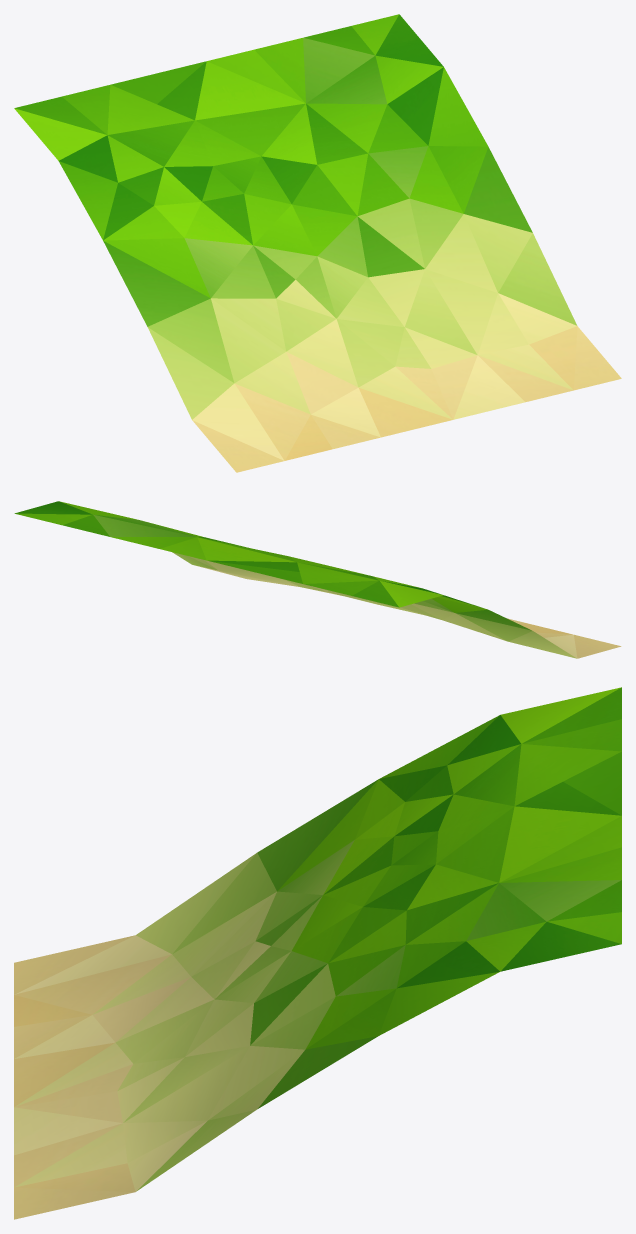
Rendered from GL-Terrain-part-06.fbx.
3 renders of one model, top to bottom at view 1: azimuth 30°, elevation 25°; view 2: azimuth 150°, elevation 25°; view 3: azimuth 270°, elevation 25°, orthographic. The views are drawn at different scales.
Visible parts, largest first — view 1: GL-Terrain-part-06; view 2: GL-Terrain-part-06; view 3: GL-Terrain-part-06.
Part boxes in pixels (left/top/right/bottom): GL-Terrain-part-06: left=14, top=14, right=621, bottom=472; GL-Terrain-part-06: left=14, top=501, right=621, bottom=658; GL-Terrain-part-06: left=14, top=687, right=621, bottom=1219.
Bounding box in the file's own units: 6 × 3 × 6.
